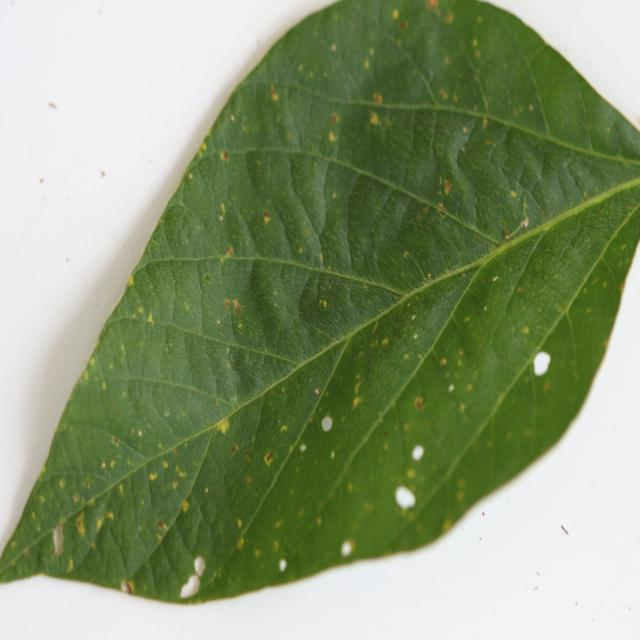Soybean: (0, 0, 640, 607)
downey_mildew: (11, 380, 249, 581), (413, 295, 571, 515), (317, 76, 627, 171), (239, 295, 396, 424), (212, 379, 324, 550), (134, 302, 322, 400), (430, 7, 557, 150), (274, 374, 381, 532), (146, 201, 243, 365), (294, 147, 461, 236), (224, 73, 403, 150), (452, 241, 546, 378), (274, 253, 407, 342), (515, 202, 615, 318), (377, 263, 478, 373), (361, 7, 461, 118), (86, 318, 178, 427), (393, 353, 474, 457), (41, 423, 140, 508), (454, 153, 543, 242), (481, 116, 632, 168), (290, 274, 366, 375), (527, 40, 595, 146), (99, 471, 159, 580), (430, 96, 477, 230), (360, 234, 451, 302), (207, 252, 382, 286), (570, 184, 640, 268), (101, 374, 231, 419), (574, 80, 637, 166), (287, 82, 460, 112), (417, 187, 508, 243), (215, 144, 383, 171), (132, 254, 278, 283), (302, 270, 424, 304), (267, 188, 314, 234)
